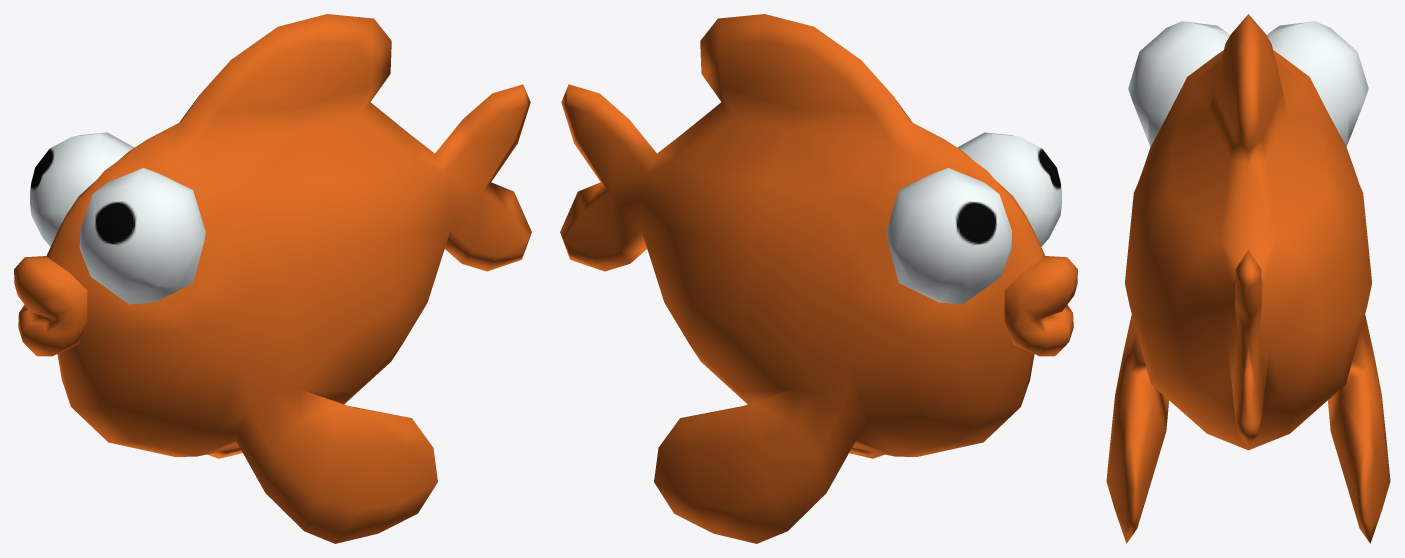
File: Food_Fish.fbx
3 renders of one model, left to right at view 1: azimuth 30°, elevation 25°; view 2: azimuth 150°, elevation 25°; view 3: azimuth 270°, elevation 25°, orthographic. The views are drawn at different scales.
Parts seen in each view (by area): view 1: Fish; view 2: Fish; view 3: Fish.
Part boxes in pixels (x1,y1,x2,y2): Fish: (14,14,531,543); Fish: (560,14,1077,543); Fish: (1106,14,1390,543).
Bounding box in the file's own units: 0.8987 × 0.7965 × 0.4114.
